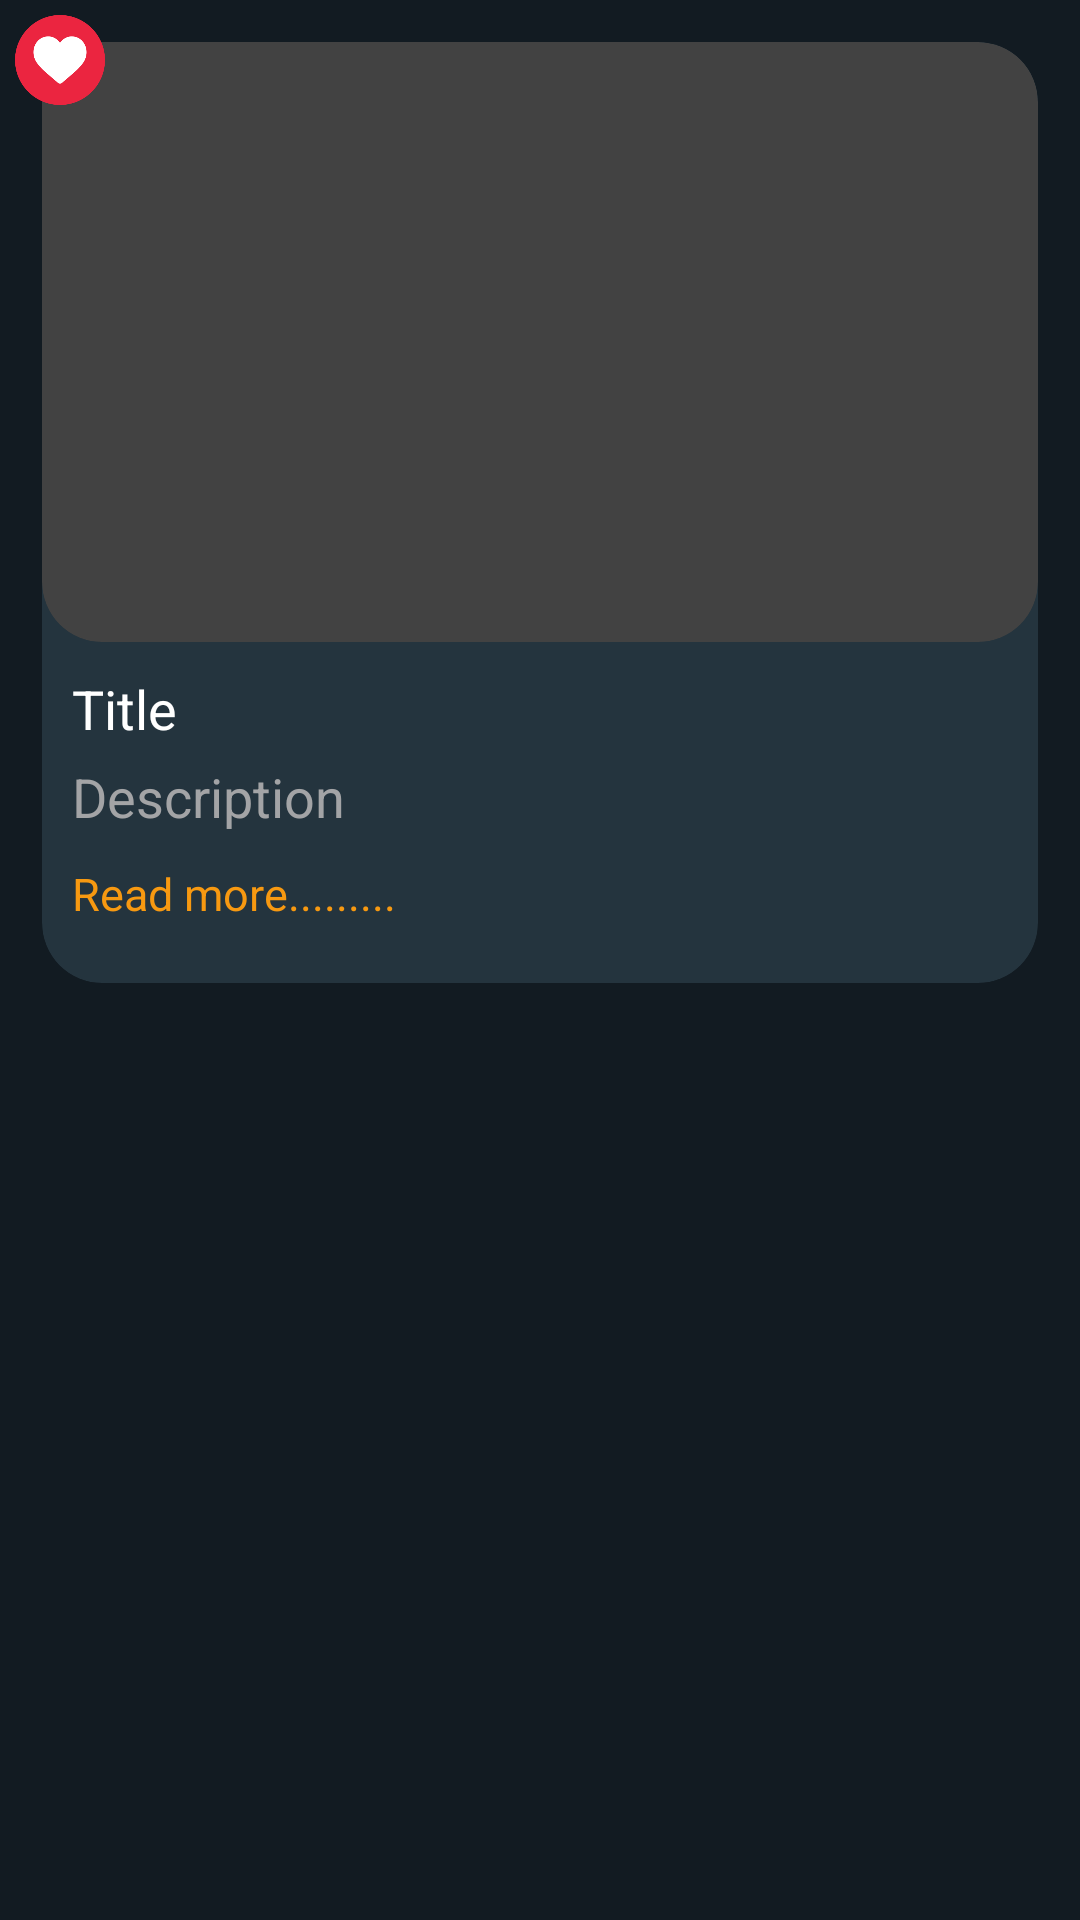

Locate icon controls on the screen. Image size 1080 × 1920, boxes as bbox(x1, y1, x2, y2).
likepage: bbox(15, 15, 105, 105)
